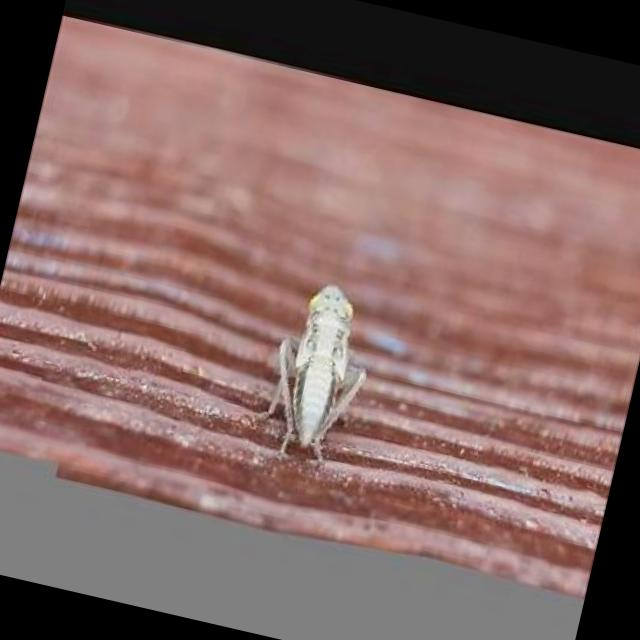green-leafhopper: (243, 270, 385, 470)
